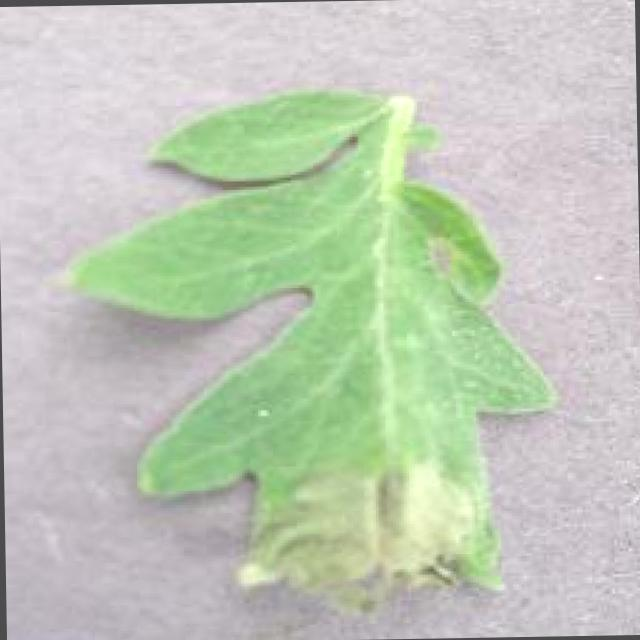leaf blight: (68, 86, 560, 619)
